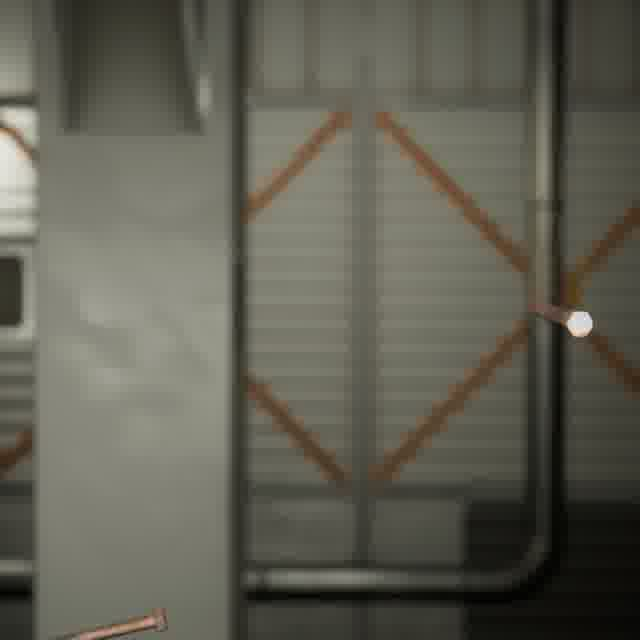bolt: (44, 601, 172, 640), (521, 293, 598, 341)
